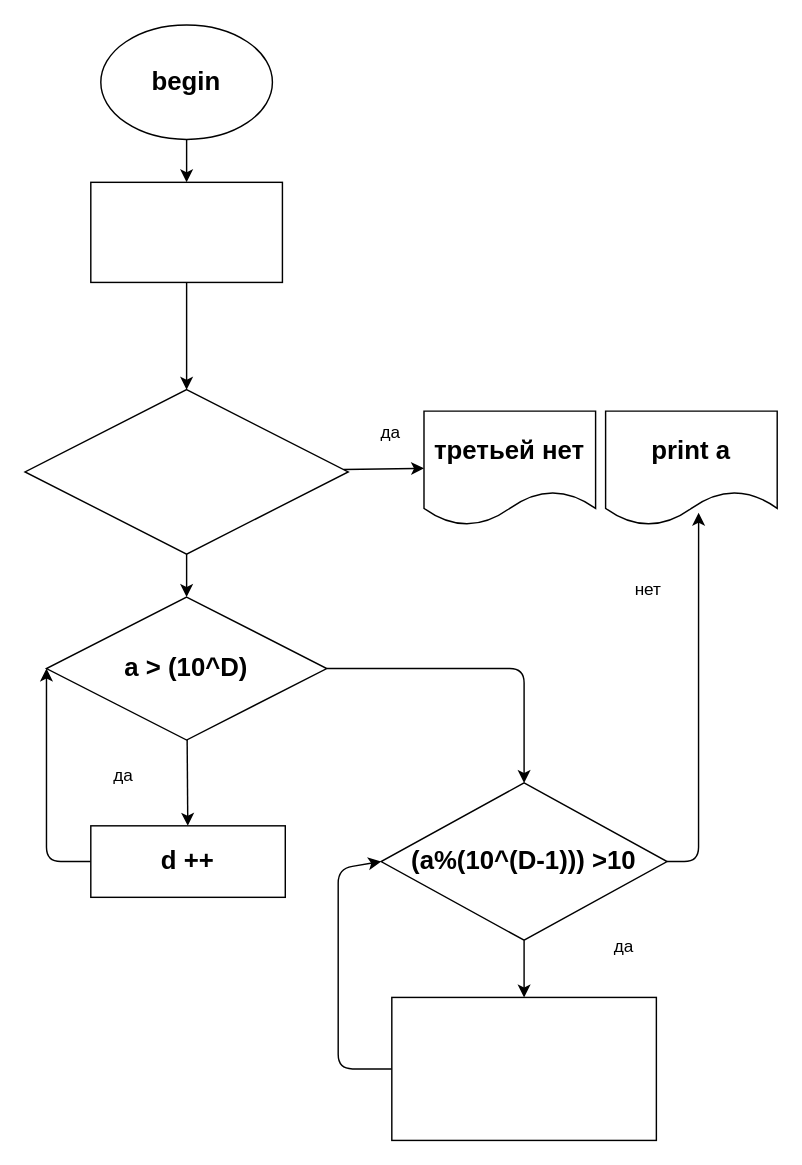
The diagram is 802 pixels wide and 1165 high, and some of its shapes have lost their labels. The centre of each missing label's shape, as x and y in pixels:
"a < (10^D)" belongs at [186,471].
"D-- a =(a%(10^(D-1)))" belongs at [523,1068].
"input a D = 2" belongs at [185,231].
